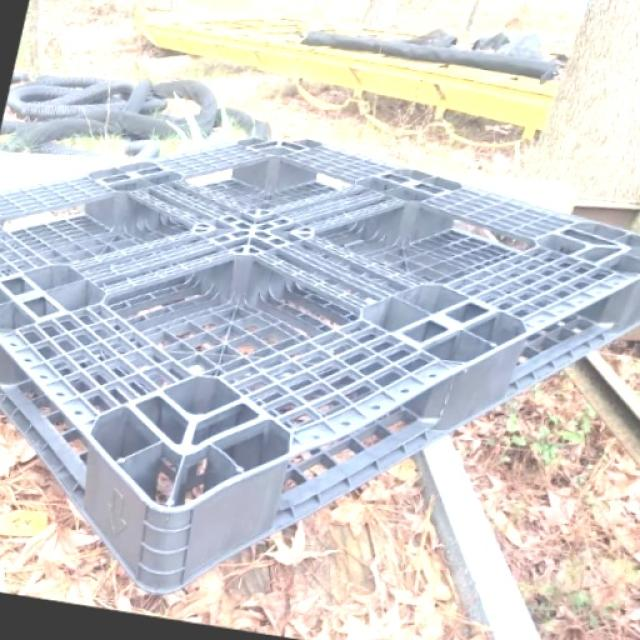non-igps: (0, 131, 640, 601)
